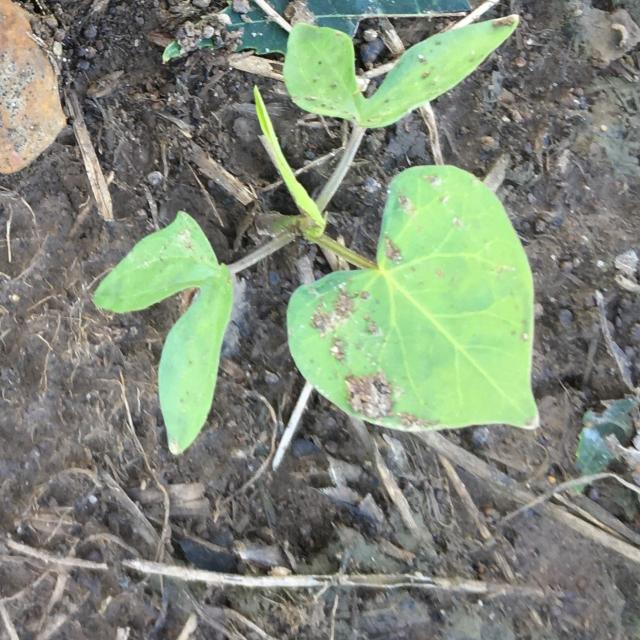MorningGlory: (91, 15, 538, 454)
